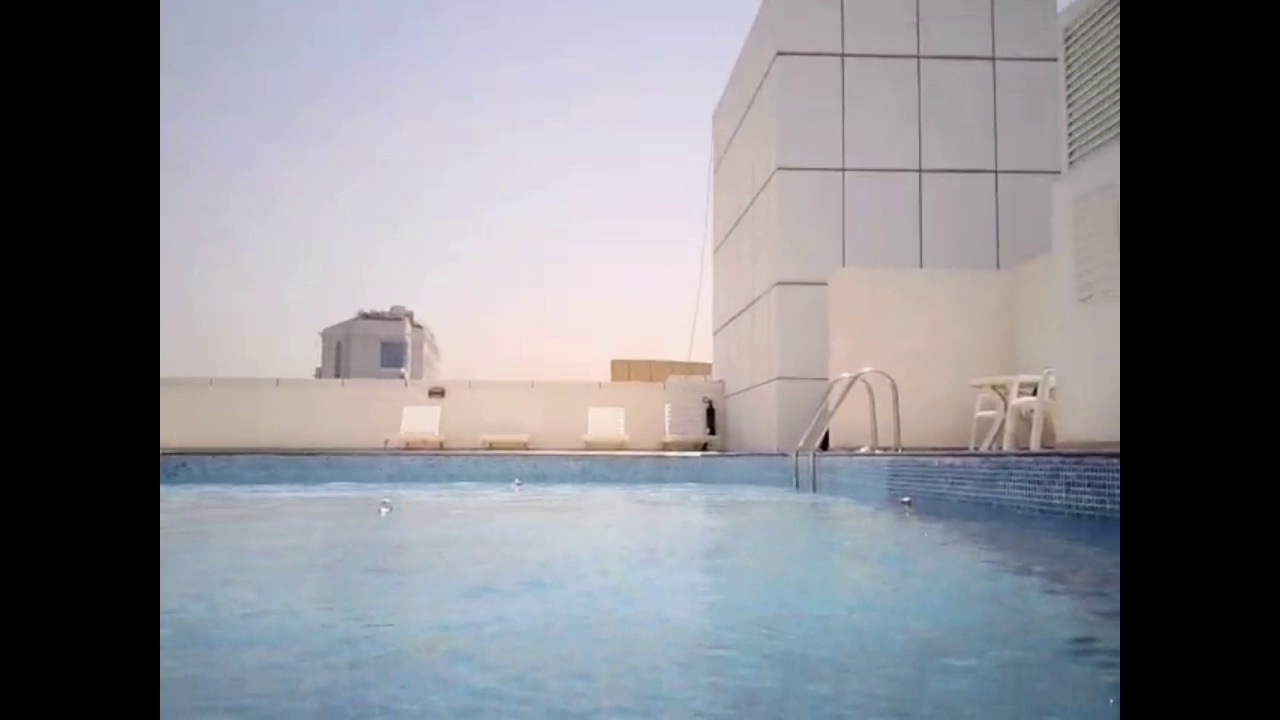debris: (374, 495, 398, 519), (893, 490, 916, 509), (509, 474, 523, 488)
